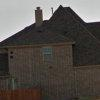Chimney: (28, 3, 50, 32)
